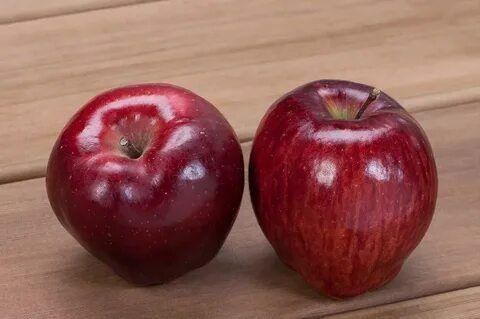Apple: (250, 79, 437, 294), (48, 84, 244, 284)
